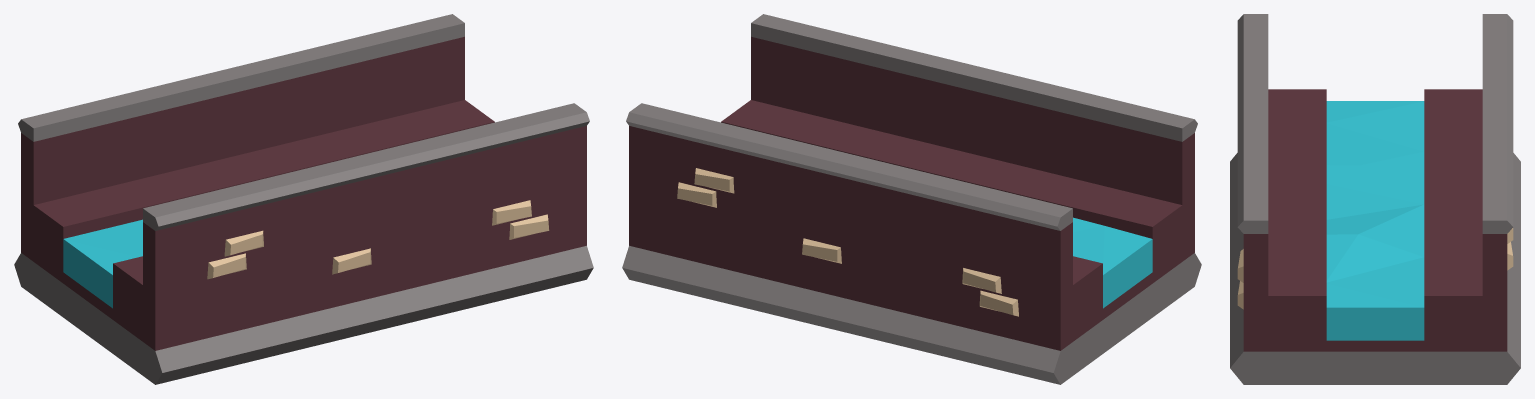
File: SM_Aqueduct_Water_Trough_Empire.fbx
3 renders of one model, left to right at view 1: azimuth 30°, elevation 25°; view 2: azimuth 150°, elevation 25°; view 3: azimuth 270°, elevation 25°, orthographic.
Parts seen in each view (by area): view 1: SM_Aqueduct_Water_Trough_Empire; view 2: SM_Aqueduct_Water_Trough_Empire; view 3: SM_Aqueduct_Water_Trough_Empire.
Part boxes in pixels (<box>): SM_Aqueduct_Water_Trough_Empire: <box>14,14,593,384</box>; SM_Aqueduct_Water_Trough_Empire: <box>622,14,1201,384</box>; SM_Aqueduct_Water_Trough_Empire: <box>1230,14,1520,384</box>.
Bounding box in the file's own units: 5 × 1.85 × 2.97.
